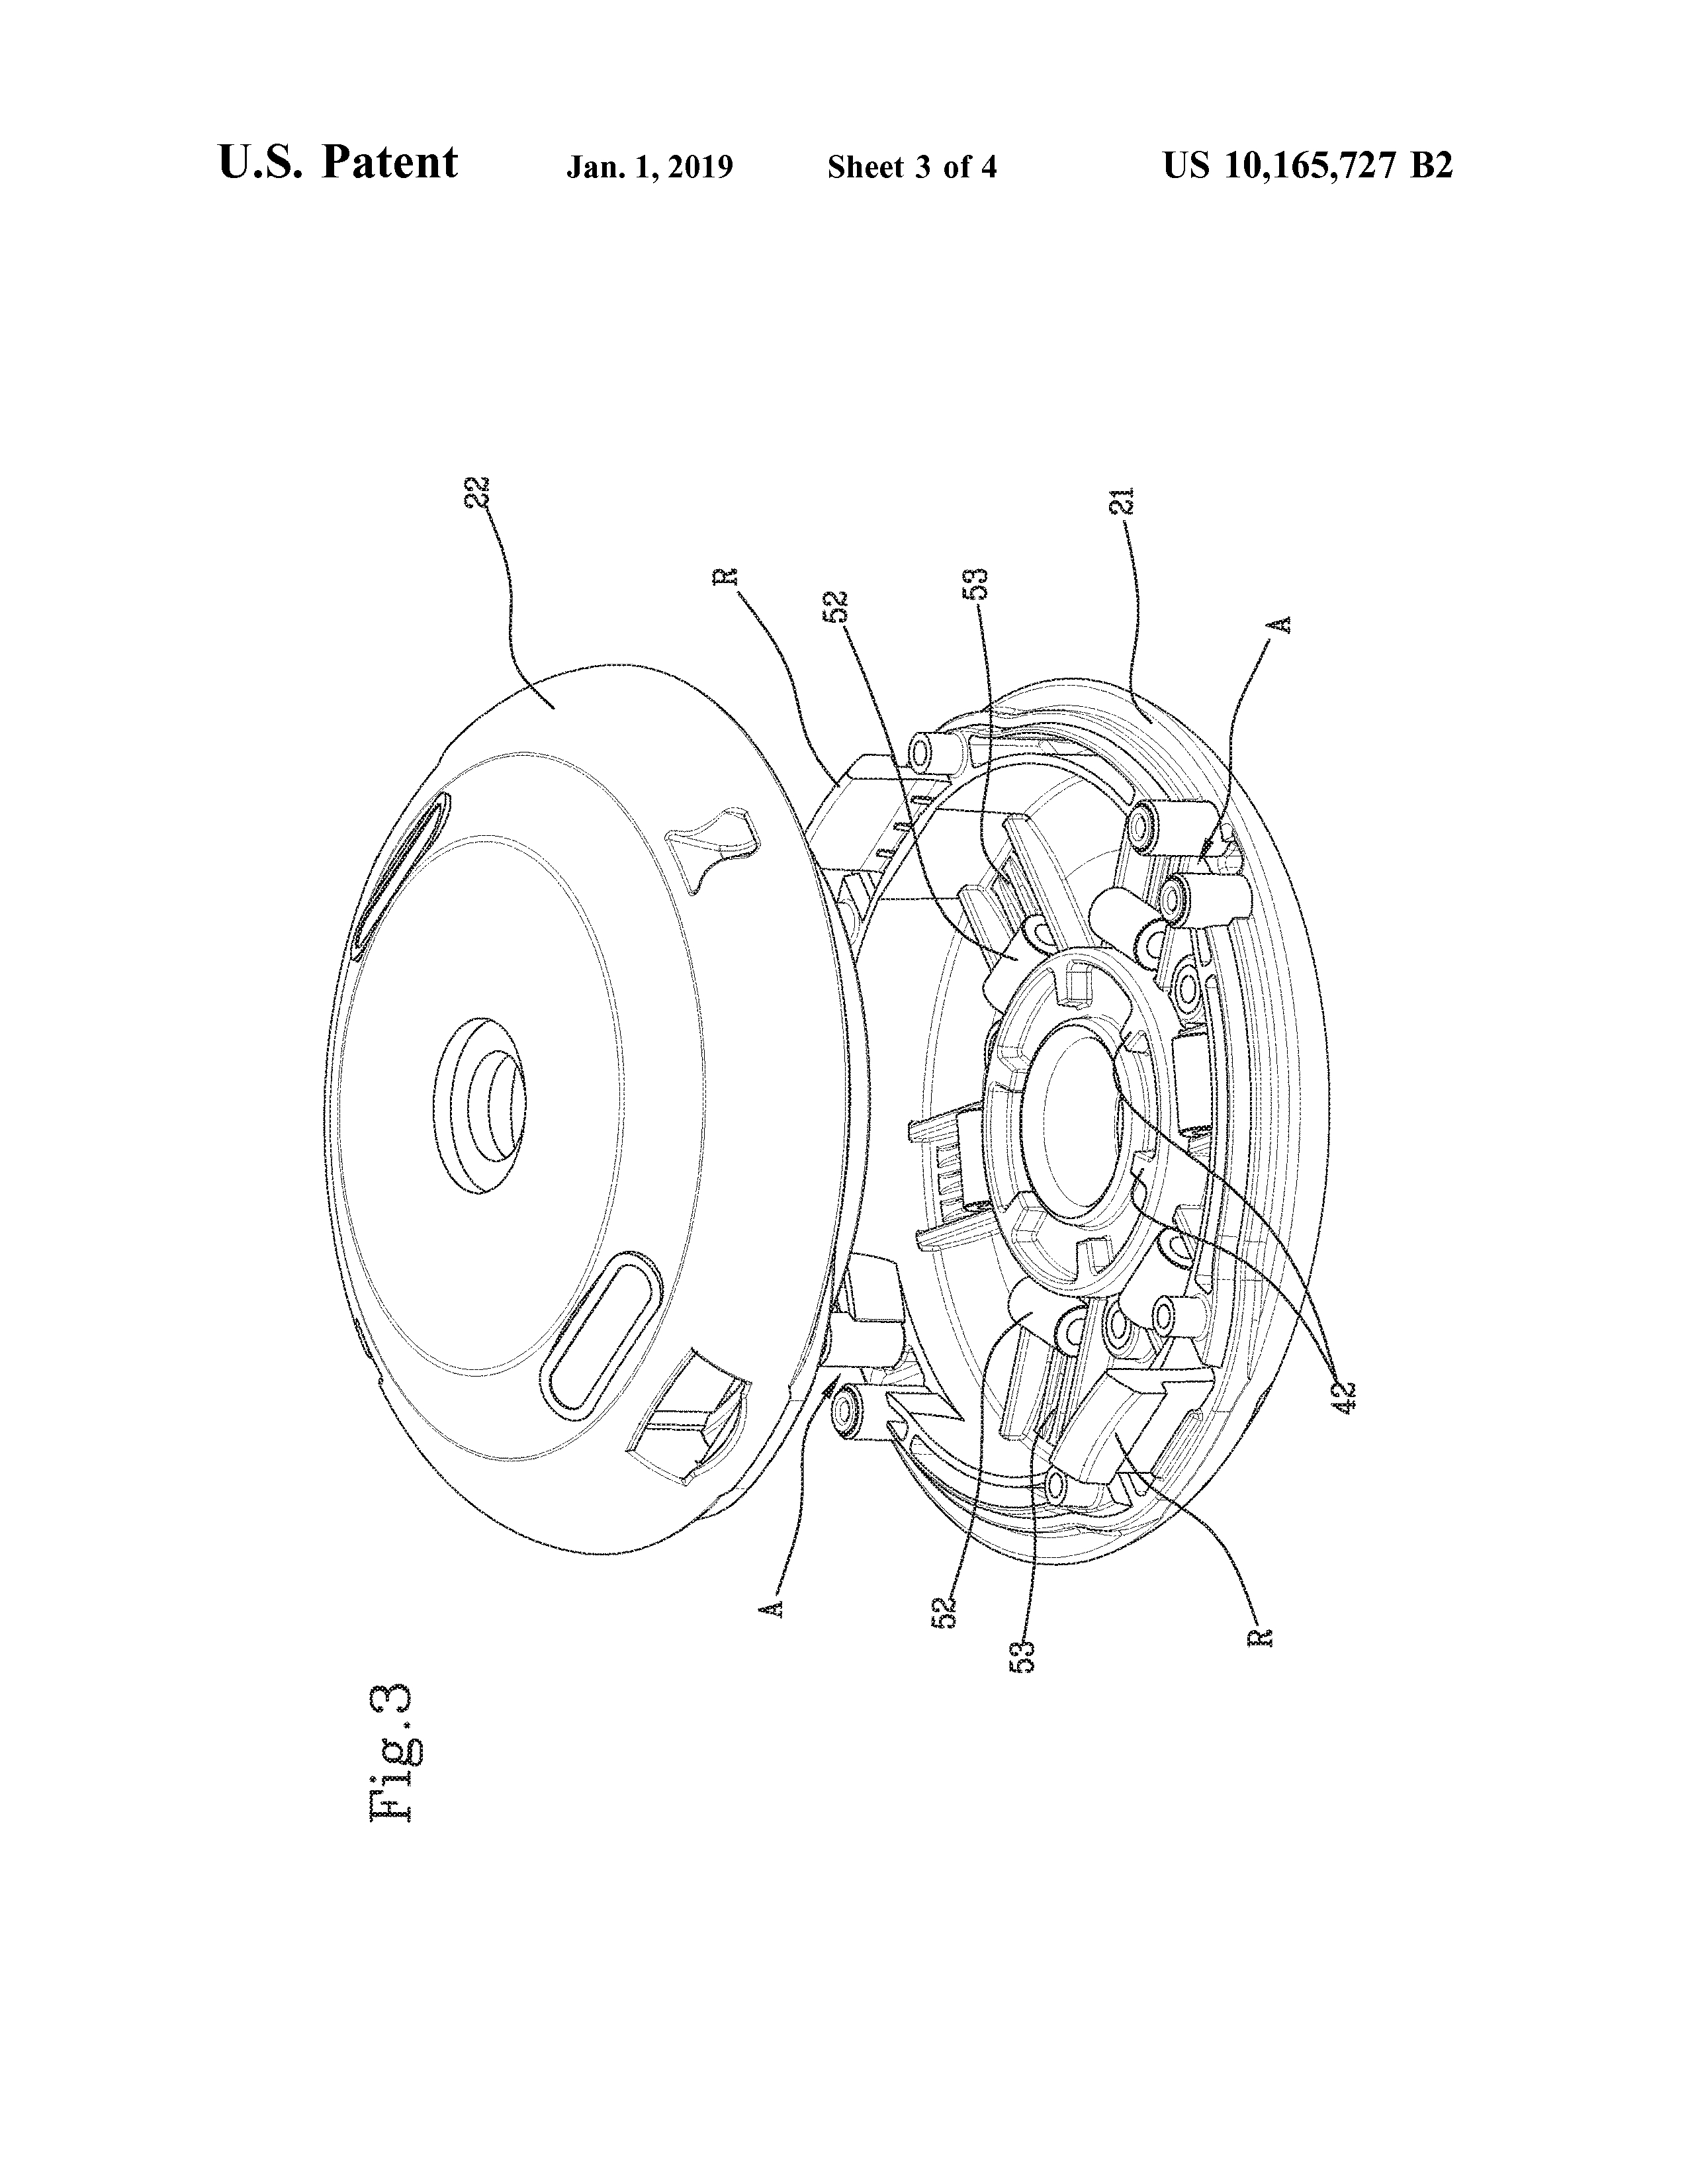patent image: (316, 336, 1435, 1939)
